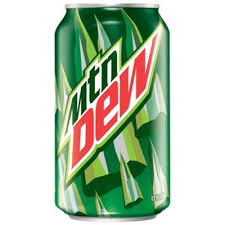can: (54, 2, 172, 223)
